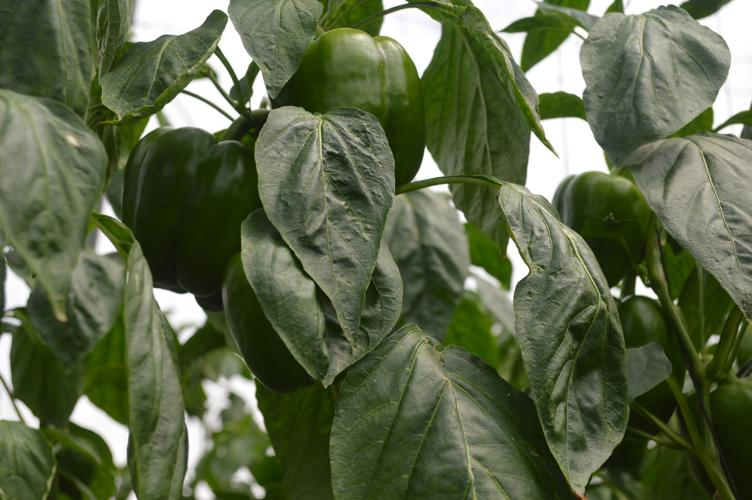BellPepper: (125, 128, 257, 294), (297, 32, 425, 193), (221, 254, 323, 393), (548, 175, 651, 288), (613, 295, 686, 454)
